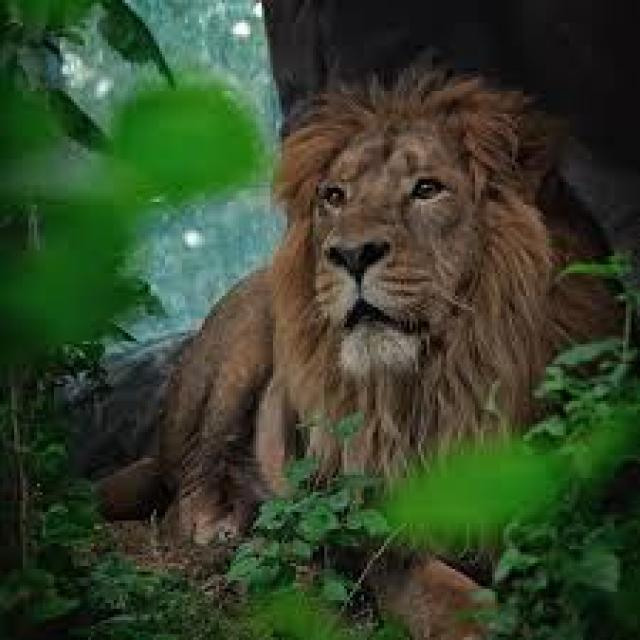Lion: (261, 64, 573, 476)
